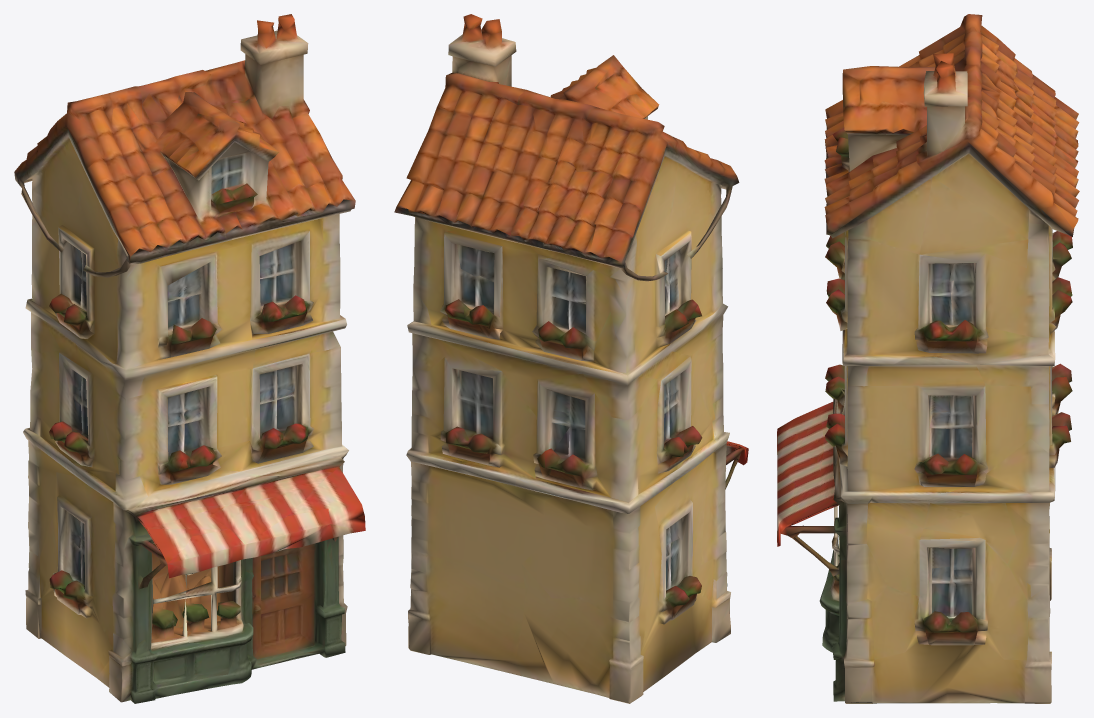
The model's file is harbour-townhouse.glb.
3 views of the same model, side by side, from view 1: azimuth 30°, elevation 25°; view 2: azimuth 150°, elevation 25°; view 3: azimuth 270°, elevation 25° (orthographic). The views are drawn at different scales.
Visible parts, largest first — view 1: harbour-townhouse; view 2: harbour-townhouse; view 3: harbour-townhouse.
Boxes of the visible parts, x1=… form: harbour-townhouse: x1=14, y1=14, x2=365, y2=703; harbour-townhouse: x1=394, y1=14, x2=748, y2=703; harbour-townhouse: x1=777, y1=14, x2=1079, y2=703.
Size of the model in its own units: 5.33 by 12 by 5.21.
1 material, 1 textured.
